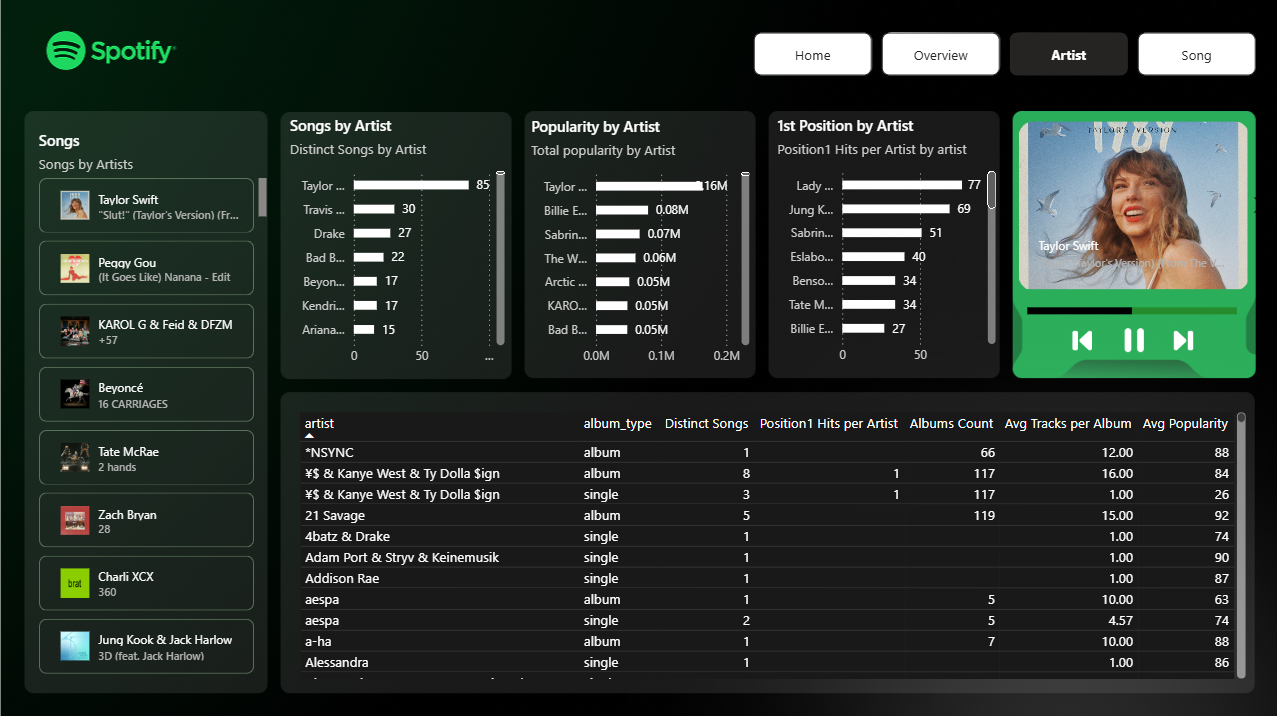

The dashboard page shown, as its layout file describes it:
{"tool":"powerbi","page":{"name":"Artist","canvas":[1280,720],"ordinal":2},"visuals":[{"type":"advancedSlicerVisual","title":"Songs","fields":{"Values":["Top-50-world.song"]},"box":[992.4,114.6,281.6,180.5],"z":0,"group":"g1"},{"type":"advancedSlicerVisual","title":"Songs","fields":{"Values":["Top-50-world.song"]},"box":[34.1,130.1,238.6,553],"z":0,"group":"g2"},{"type":"hundredPercentStackedBarChart","fields":{"Y":["Measure_Table.Avg Popularity","Avg(Top-50-world.popularity)"]},"box":[1022.7,274,219.7,65.7],"z":1000,"group":"g1"},{"type":"tableEx","fields":{"Values":["Top-50-world.artist","Top-50-world.album_type","Measure_Table.Distinct Songs","Measure_Table.Position1 Hits per Artist","Measure_Table.Albums Count","Measure_Table.Avg Tracks per Album","Measure_Table.Avg Popularity"]},"box":[294,407.1,957.4,276.4],"z":1000,"group":"g2"},{"type":"clusteredBarChart","title":"Songs by Artist","fields":{"Category":["Top-50-world.artist"],"Y":["Measure_Table.Distinct Songs"]},"box":[285.4,114.9,224.7,258.8],"z":2000,"group":"g2"},{"type":"clusteredBarChart","title":"Popularity by Artist","fields":{"Category":["Top-50-world.artist"],"Y":["Sum(Top-50-world.popularity)"]},"box":[526.5,116.2,228.5,257.6],"z":3000,"group":"g2"},{"type":"clusteredBarChart","title":"1st Position by Artist","fields":{"Category":["Top-50-world.artist"],"Y":["Measure_Table.Position1 Hits per Artist"]},"box":[772.7,114.9,228.5,257.6],"z":4000,"group":"g2"},{"type":"pageNavigator","box":[754,32.6,505.5,43.4],"z":5000,"group":"g2"},{"type":"group","id":"g1","title":"Group 1","box":[992.4,114.6,281.6,251.9],"z":6000,"group":"g2"},{"type":"group","id":"g2","title":"Group 2","box":[34.1,32.6,1239.8,650.9],"z":6001},{"type":"image","box":[1116.9,313.4,33.8,53.1],"z":8000,"group":"g1"},{"type":"image","box":[1167.6,323.1,32.6,33.8],"z":9000,"group":"g1"},{"type":"image","box":[1066.3,323.1,32.6,33.8],"z":10000,"group":"g1"}]}

Visuals, with their boxes in screenshot pixels (x1, y1, x2, y2), scaled from the page's 1280x720 canvas onto the 1277x716 screenshot:
"Songs" advancedSlicerVisual: region(990, 114, 1271, 293)
"Songs" advancedSlicerVisual: region(34, 129, 272, 679)
hundredPercentStackedBarChart - Measure_Table.Avg Popularity x Avg(Top-50-world.popularity): region(1020, 272, 1239, 338)
tableEx - Top-50-world.artist x Top-50-world.album_type: region(293, 405, 1248, 680)
"Songs by Artist" clusteredBarChart: region(285, 114, 509, 372)
"Popularity by Artist" clusteredBarChart: region(525, 116, 753, 372)
"1st Position by Artist" clusteredBarChart: region(771, 114, 999, 370)
pageNavigator: region(752, 32, 1257, 76)
"Group 1" group: region(990, 114, 1271, 364)
"Group 2" group: region(34, 32, 1271, 680)
image: region(1114, 312, 1148, 364)
image: region(1165, 321, 1197, 355)
image: region(1064, 321, 1096, 355)
